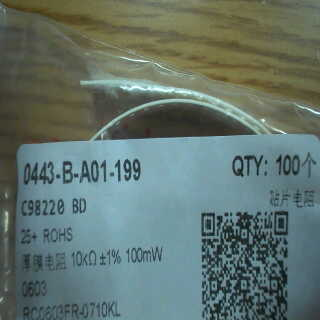10kR: (70, 248, 100, 272)
